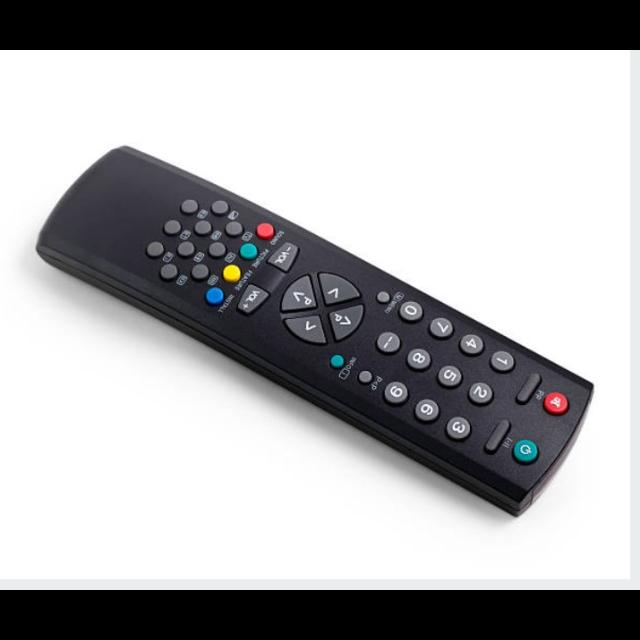TV-Remote-Control: (34, 147, 595, 518)
